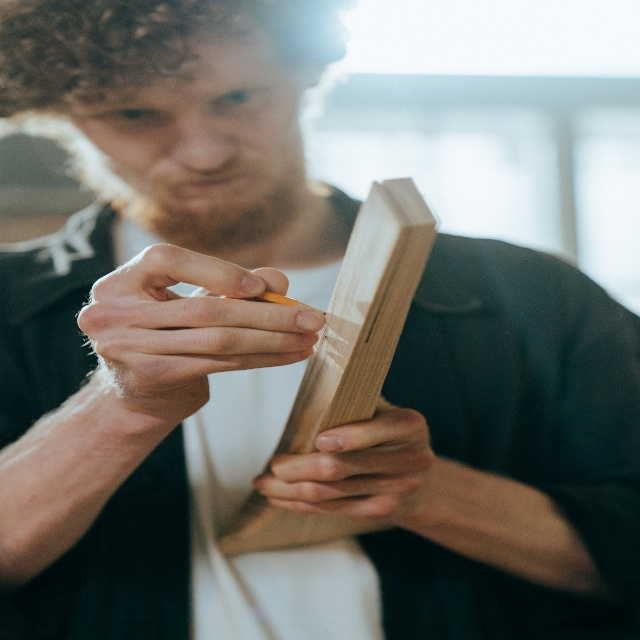Sin_guantes: (77, 230, 323, 372), (251, 394, 430, 528)
